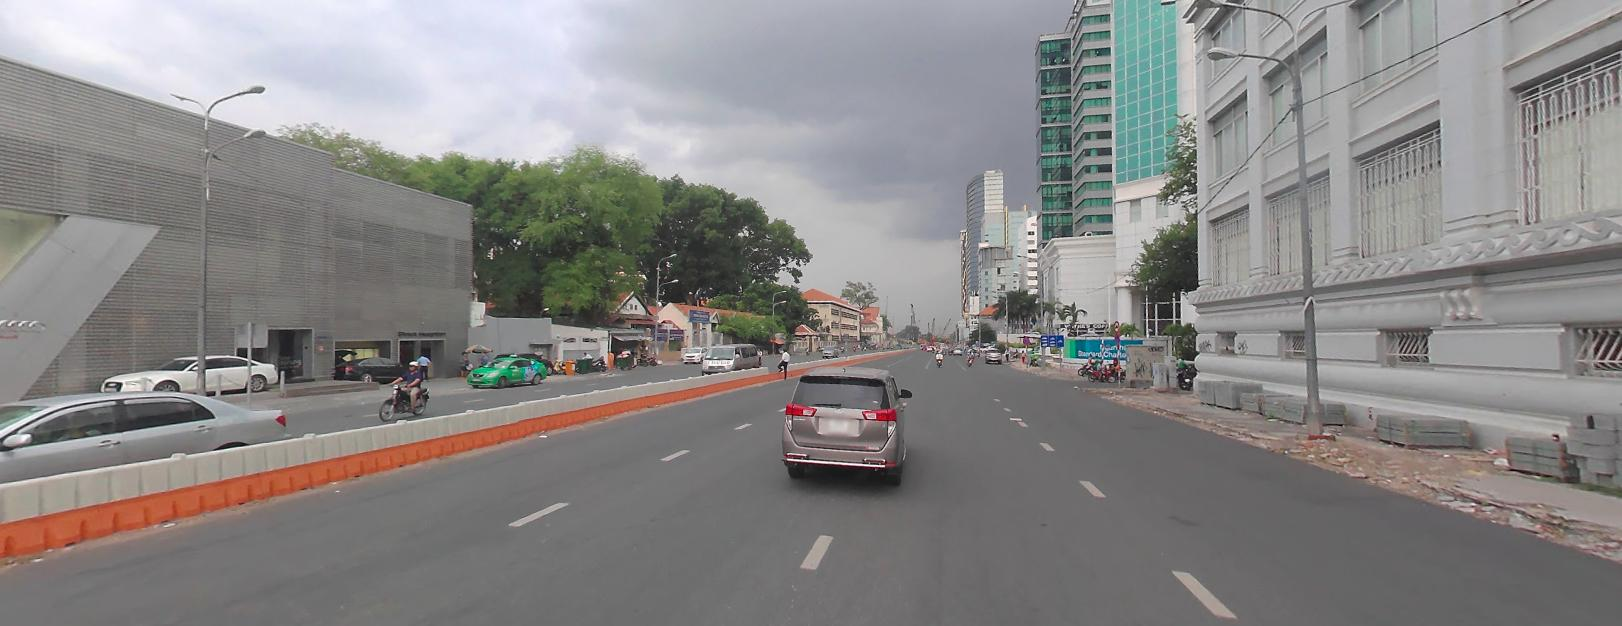Cam con lai: (1114, 319, 1119, 330)
Cam dung va do: (1022, 335, 1028, 342)
